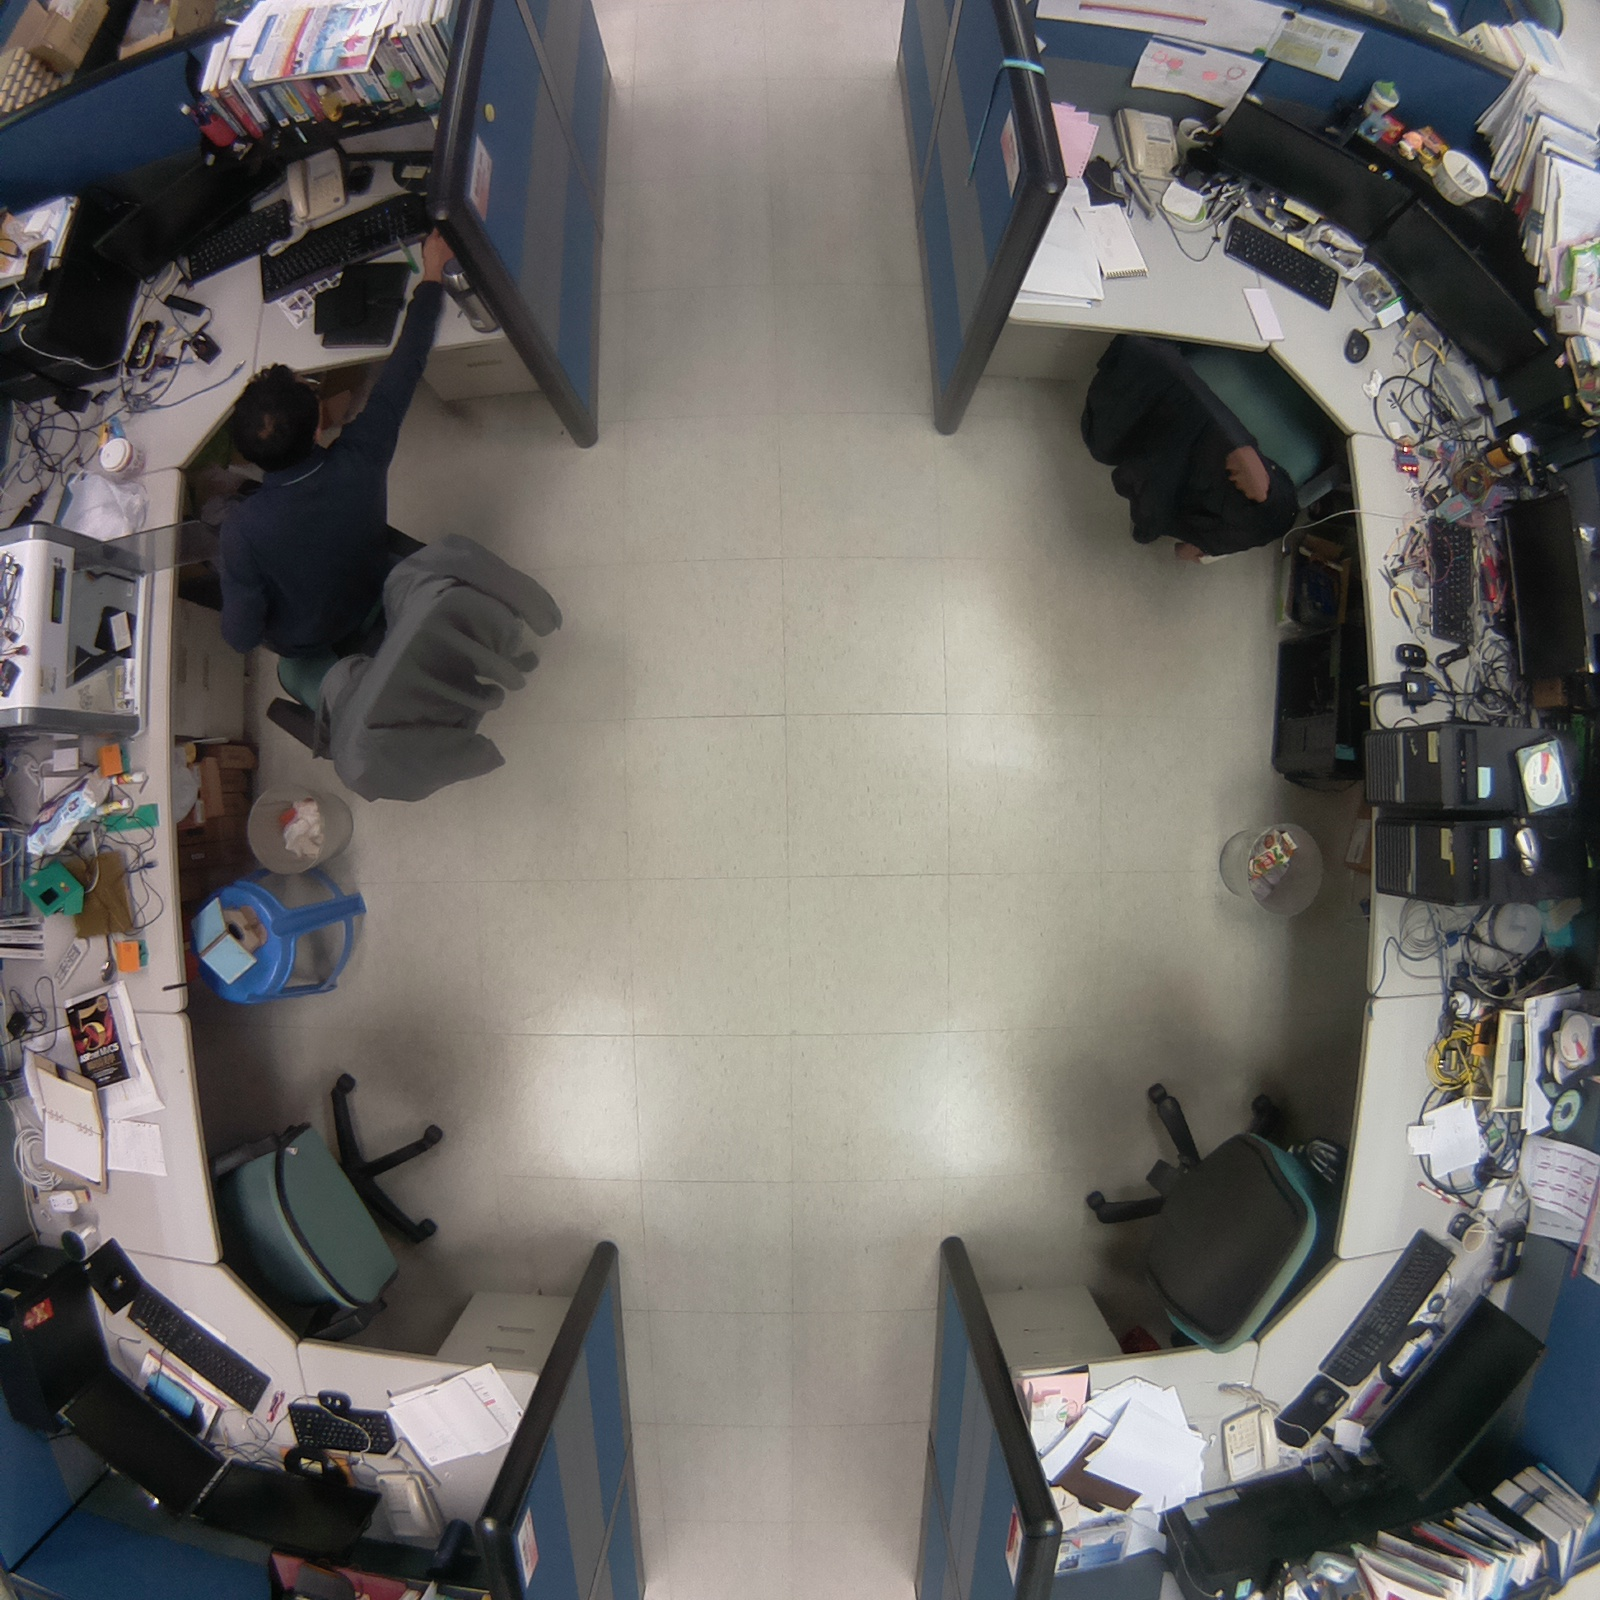chair: (1076, 1060, 1360, 1358), (194, 1058, 481, 1352), (1060, 317, 1360, 583)
head: (219, 355, 334, 474)
sitting: (195, 354, 578, 819)
